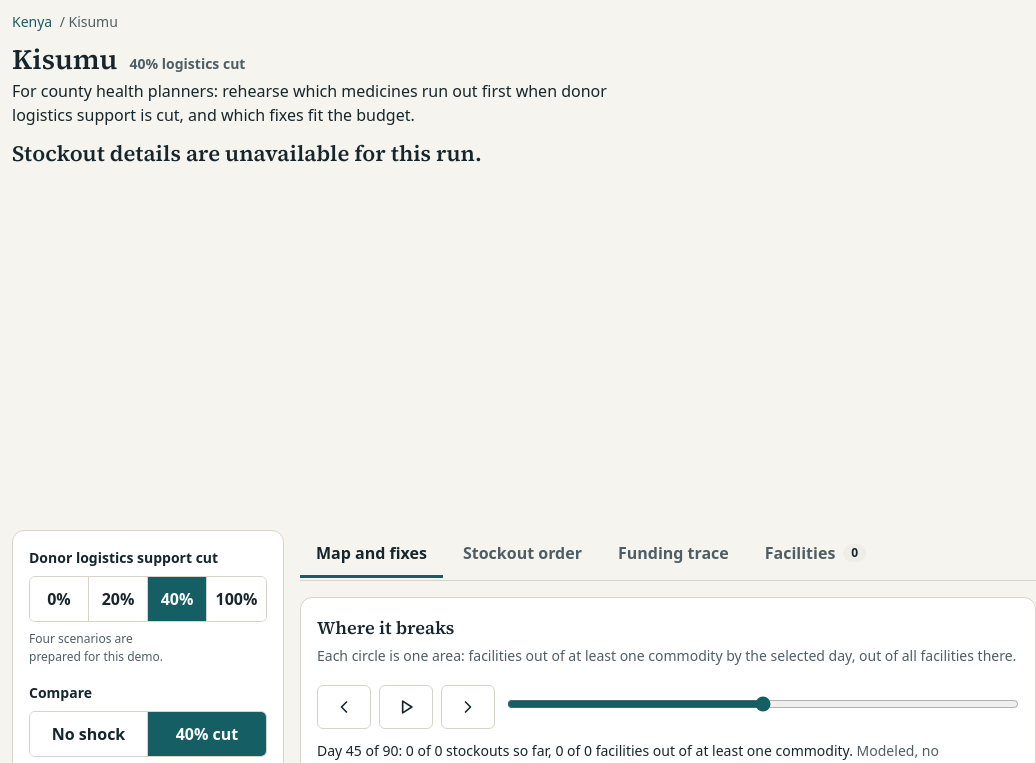
Test: keeps the previous verdict, marked busy, while another shock runs
The image size is (1036, 763).
Click the radio button labelled "20%" at {"x": 118, "y": 599}, box [89,577,148,621]
(page scrolled)
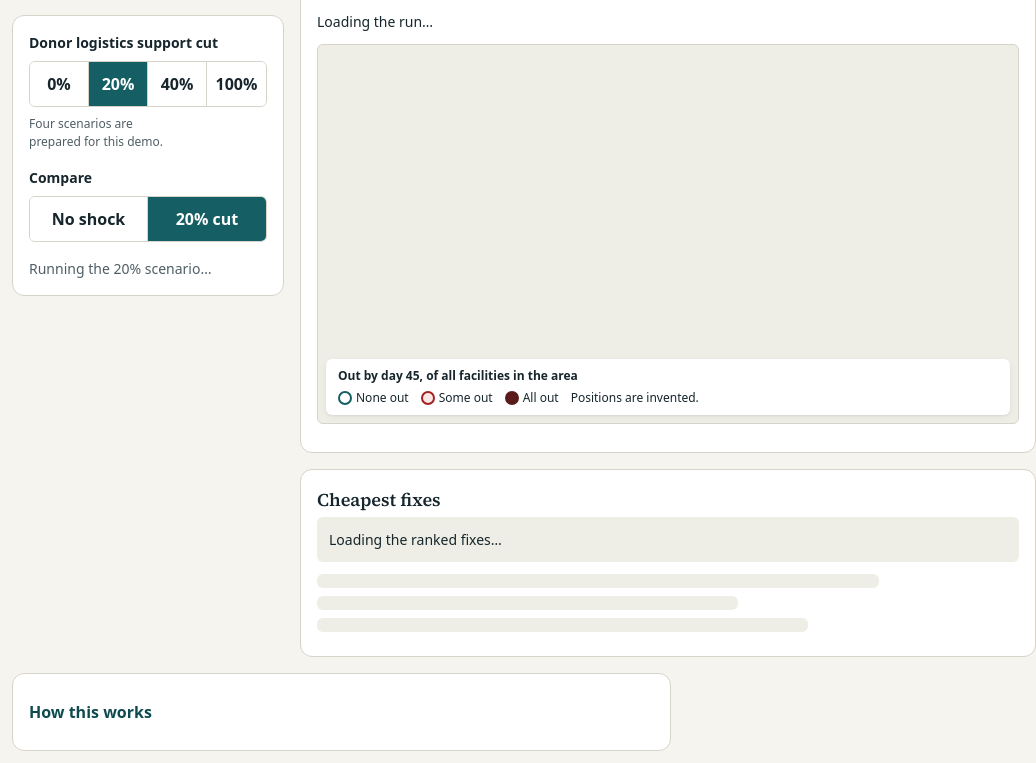
expect the element "scenario" shows "Running the 20% scenario…": met, box [29,259,212,278]
expect the element with class "fixes-placeholder" reads "Cheapest fixes Loading the ranked fixes…": met, box [300,469,1035,657]
